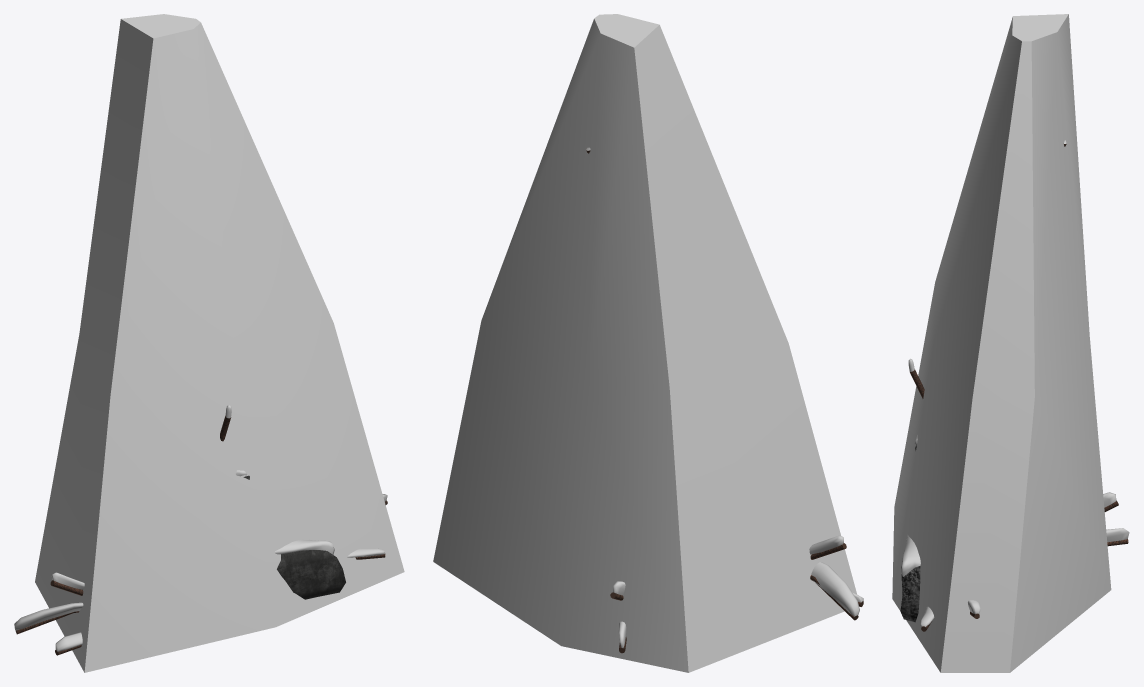
The model's file is Wood-Block.fbx.
3 renders of one model, left to right at view 1: azimuth 30°, elevation 25°; view 2: azimuth 150°, elevation 25°; view 3: azimuth 270°, elevation 25°, orthographic. The views are drawn at different scales.
Parts seen in each view (by area): view 1: wood-block_col, wood-block, snow; view 2: wood-block_col, snow; view 3: wood-block_col, snow, wood-block.
Boxes of the visible parts, x1,y1,x2,y2 form: wood-block_col: (35, 14, 404, 672); wood-block: (15, 415, 387, 655); snow: (14, 405, 387, 651); wood-block_col: (433, 14, 856, 672); snow: (586, 147, 863, 647); wood-block_col: (892, 14, 1111, 672); snow: (901, 140, 1129, 626); wood-block: (900, 143, 1128, 631).
Bounding box in the file's own units: 95.33 × 135 × 52.34.
